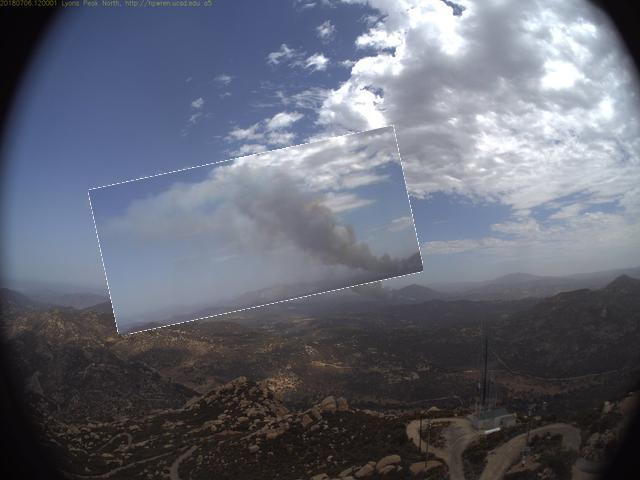smoke: (95, 142, 419, 321)
